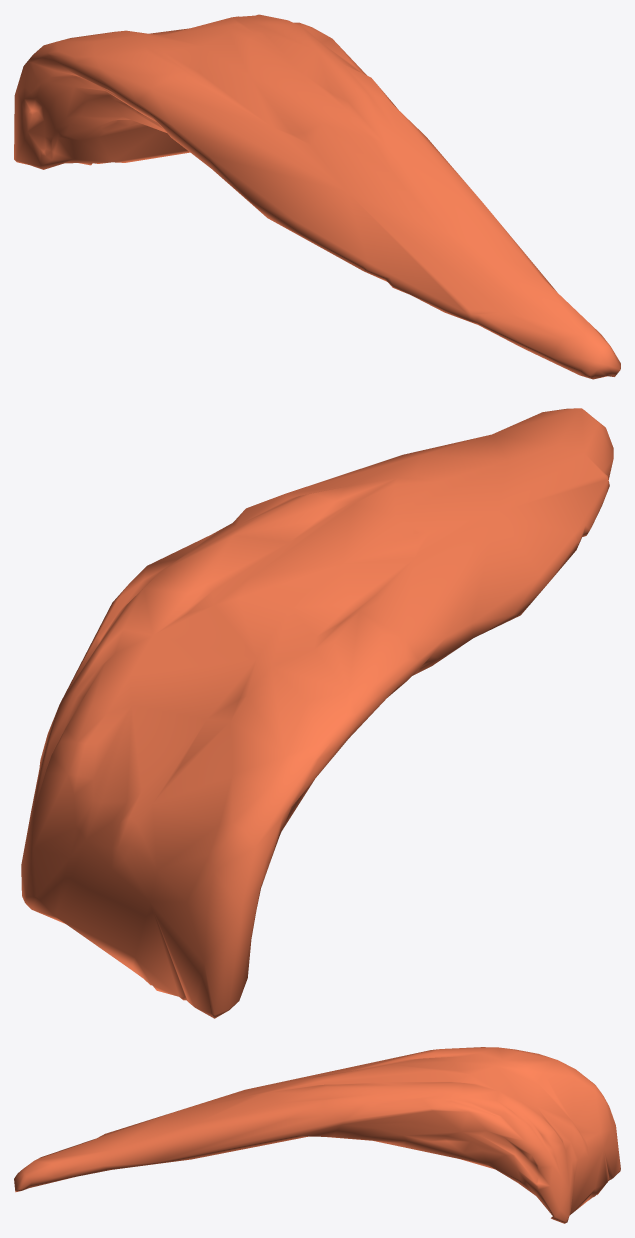
The model's file is Geniohyoid_muscle.r_Generated_Mesh_From_X3D.490.glb.
The picture shows the model from 3 angles, top to bottom: view 1: azimuth 30°, elevation 25°; view 2: azimuth 150°, elevation 25°; view 3: azimuth 270°, elevation 25°; orthographic projection. The views are drawn at different scales.
Visible parts, largest first — view 1: Geniohyoid_muscle.r_Generated_Mesh_From_X3D.490; view 2: Geniohyoid_muscle.r_Generated_Mesh_From_X3D.490; view 3: Geniohyoid_muscle.r_Generated_Mesh_From_X3D.490.
Boxes of the visible parts, left/top/right/bottom form: Geniohyoid_muscle.r_Generated_Mesh_From_X3D.490: left=14, top=14, right=620, bottom=379; Geniohyoid_muscle.r_Generated_Mesh_From_X3D.490: left=21, top=408, right=613, bottom=1018; Geniohyoid_muscle.r_Generated_Mesh_From_X3D.490: left=14, top=1047, right=620, bottom=1223.
Bounding box in the file's own units: 0.0112 × 0.0102 × 0.0401.
